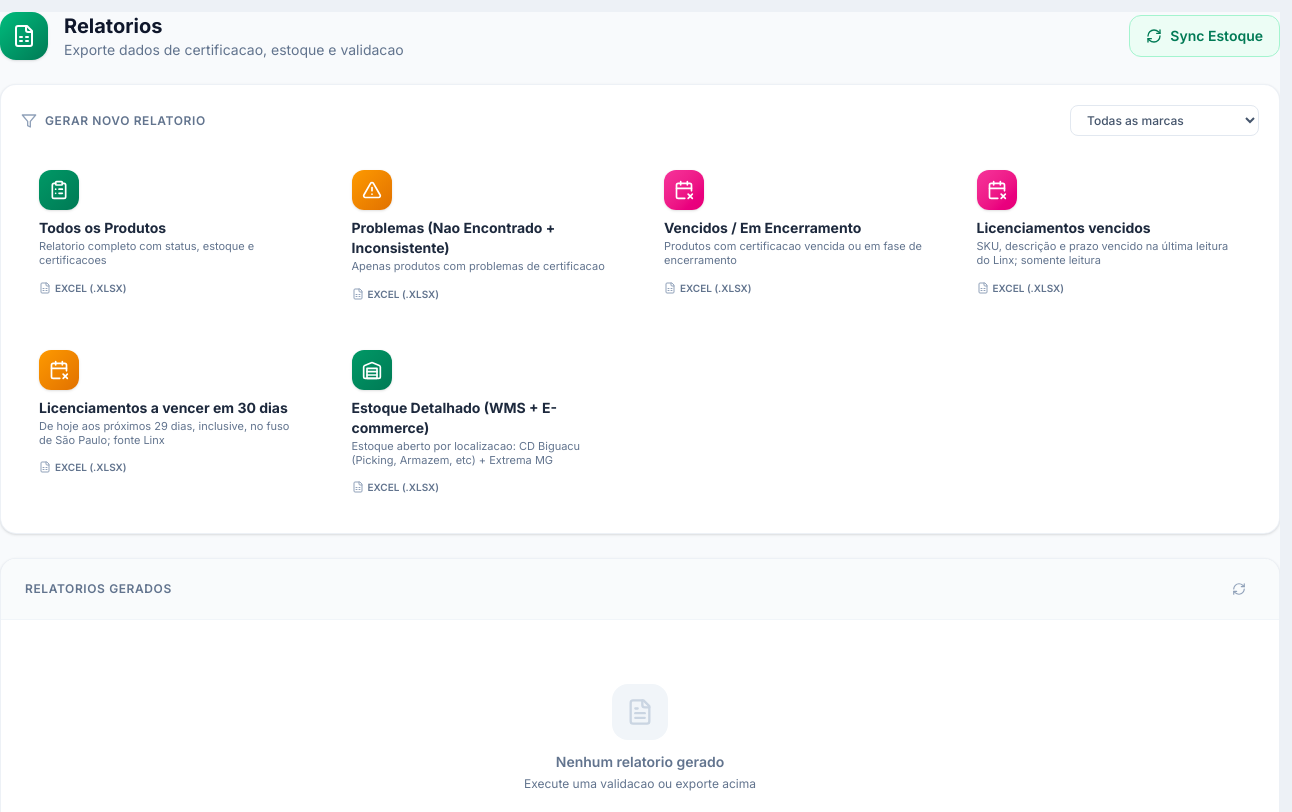
Test: CertRelatoriosPage › exportacao sem produtos › limpa o aviso anterior ao exportar de novo
The width and height of the screenshot is (1292, 812).
Click the text "Todos os Produtos" at {"x": 103, "y": 228}, box [39,219,166,236]
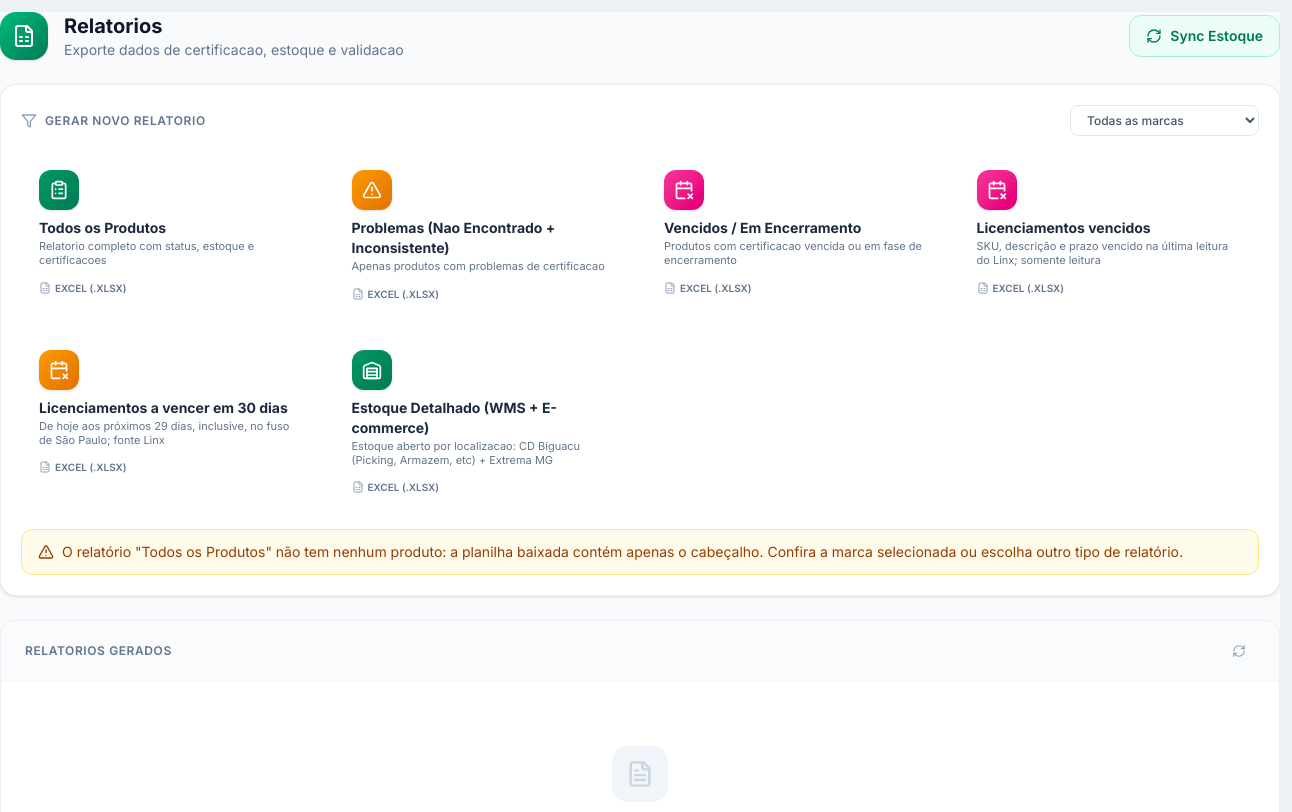
Now the message is shown, box [21,529,1259,575]
Click the text "Todos os Produtos" at {"x": 103, "y": 228}, box [39,219,166,236]
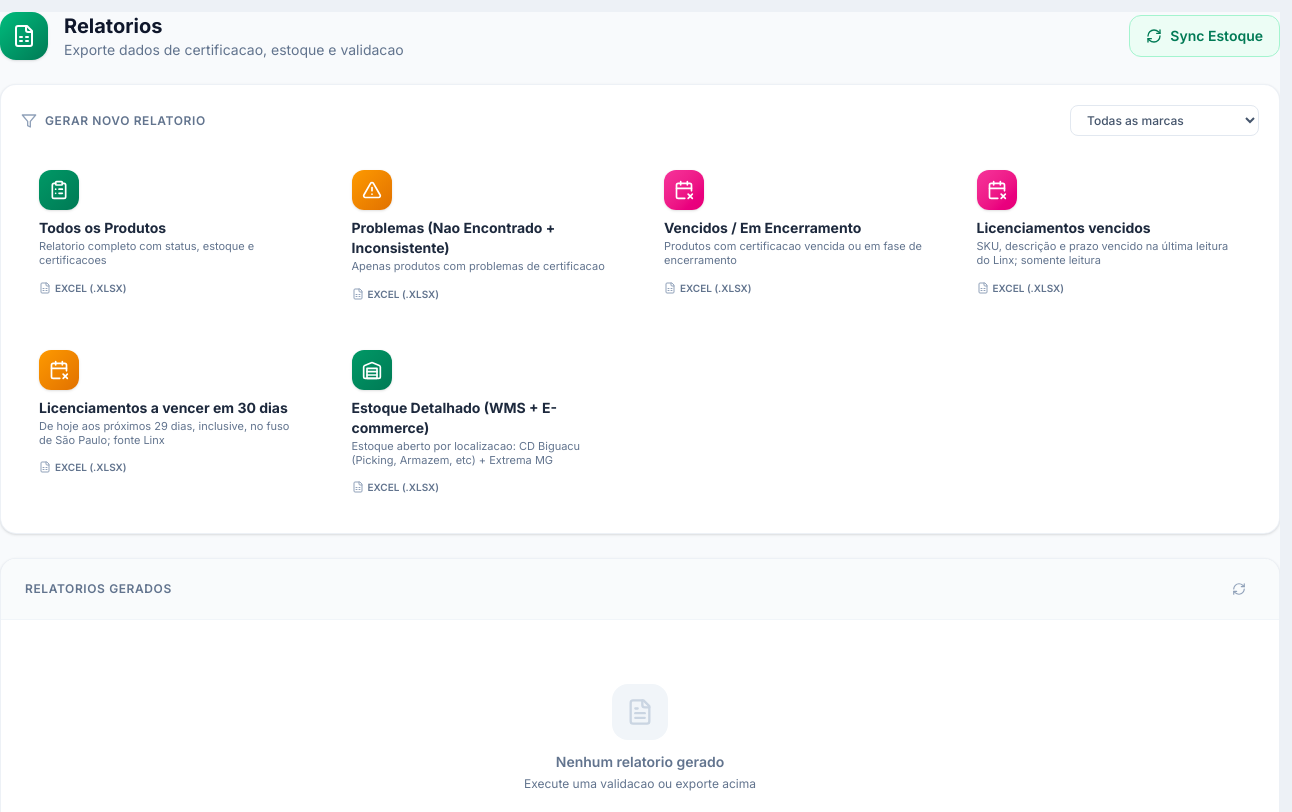
Now the message is gone
